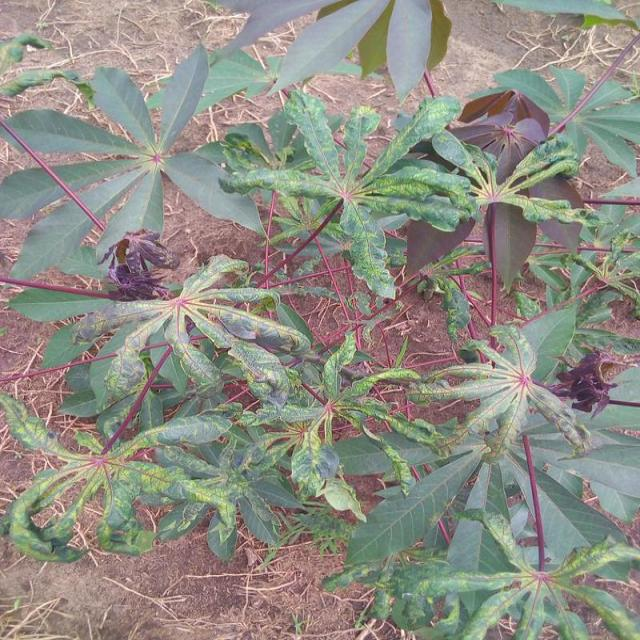Mosaico: (203, 114, 495, 303), (414, 96, 602, 257), (212, 318, 417, 456), (49, 256, 270, 381), (13, 417, 169, 545), (438, 311, 543, 440)
